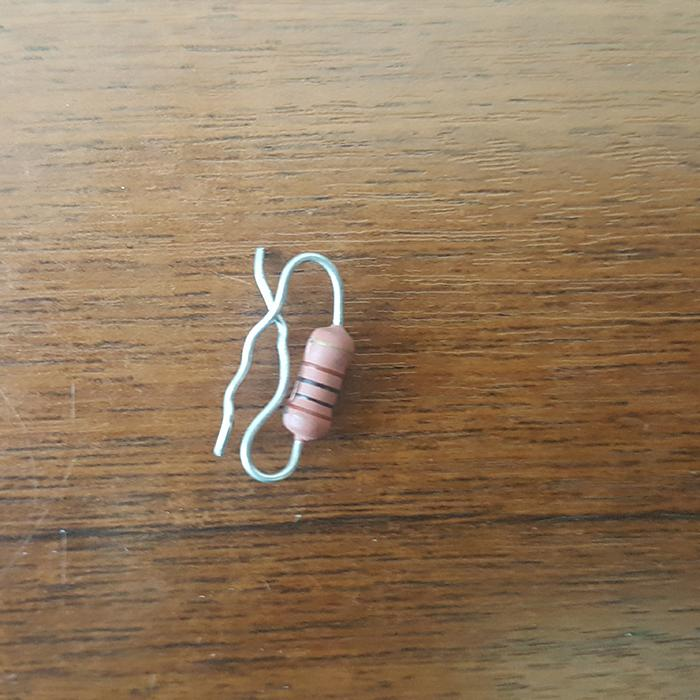resistor: (282, 323, 355, 441)
